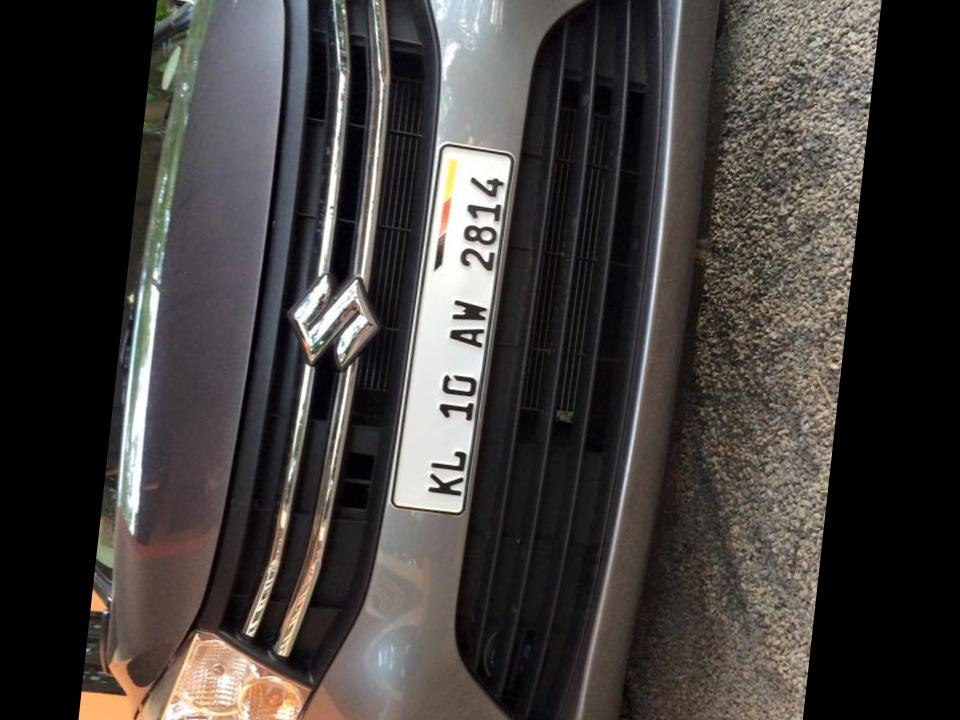plate: (379, 118, 531, 525)
